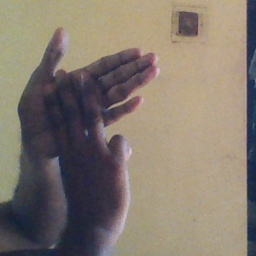M: (15, 26, 165, 201)
